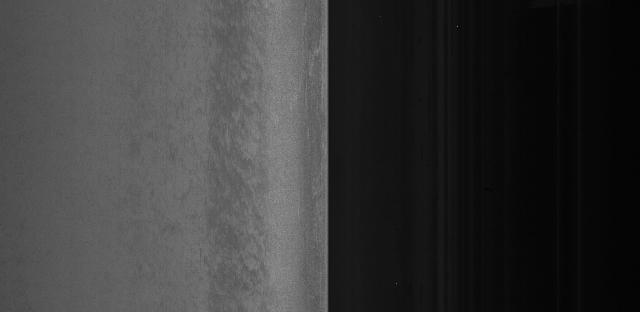silk_spot: (204, 97, 285, 177)
